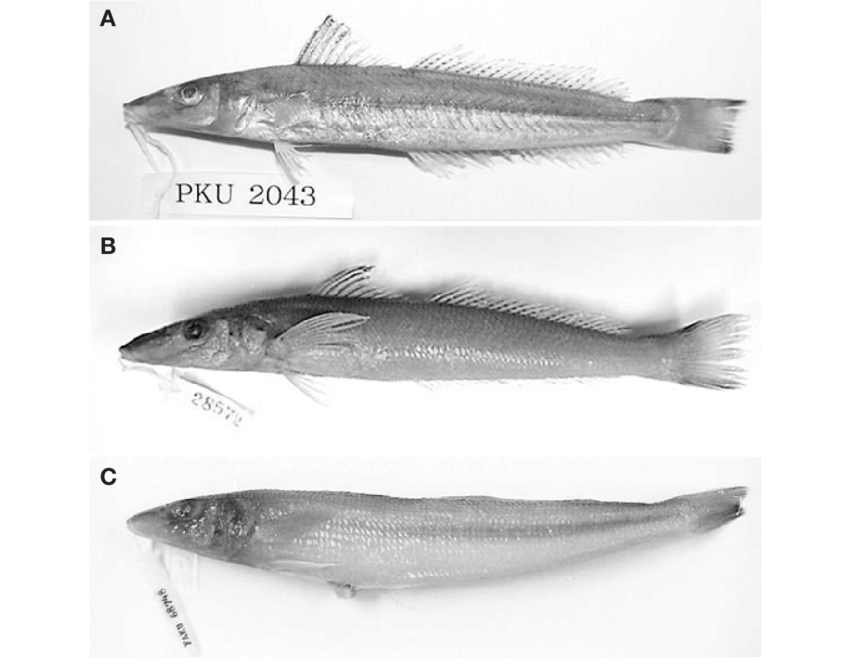kiss: (124, 472, 760, 612)
